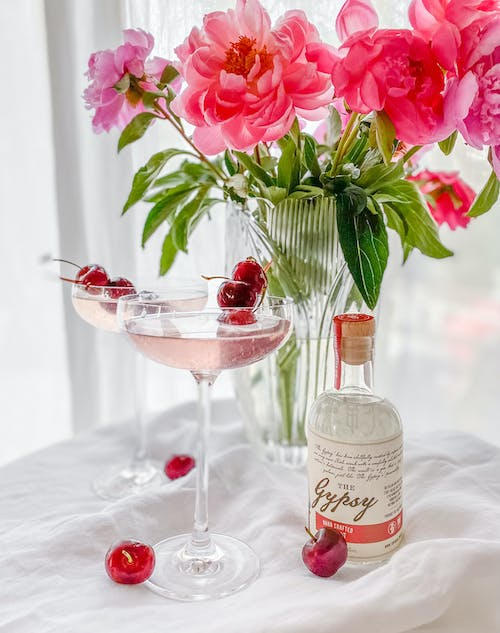alcohol: (115, 291, 296, 603), (70, 274, 209, 503), (305, 311, 407, 567)
